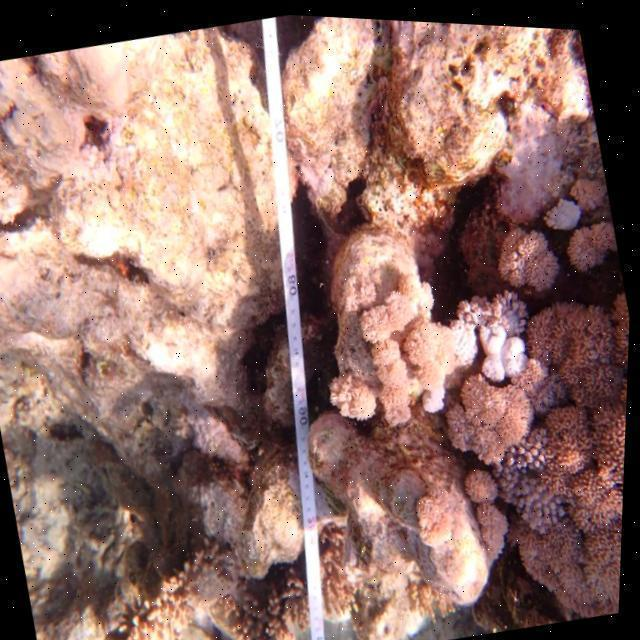Bleached Coral: (449, 290, 556, 419)
Healthy Coral: (551, 311, 621, 611), (530, 171, 596, 249)
